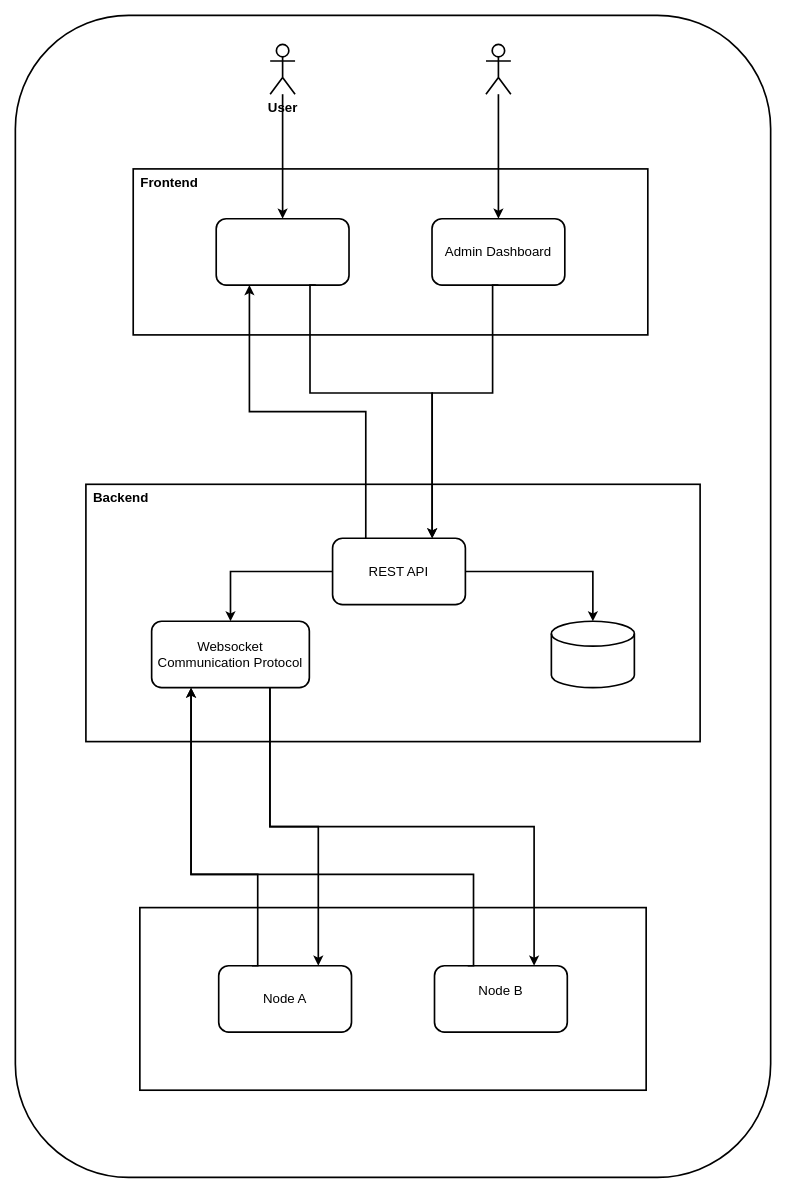
Image size: 785x1192. Some labels were removed from this diagram. The box of each missing label's shape, as (x1, y1, x2, y2) in pixels:
Admin: (485, 43, 511, 95)
IoT Nodes: (139, 906, 647, 1091)
Postgres DB: (550, 620, 635, 688)
User Dasboard: (215, 217, 349, 286)
